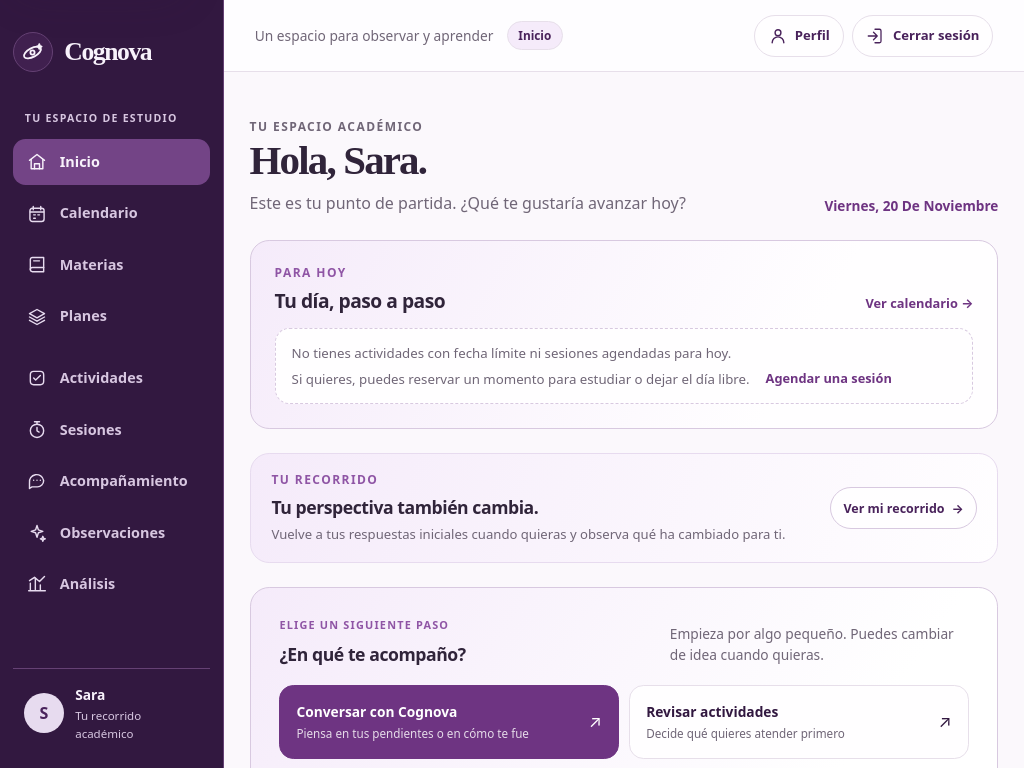
Scenario: authentication routes and forms › shows real profile data and keeps it visible on a refresh error
Expected: the heading "Hola, Sara." is shown, [250, 137, 426, 183]
Expected: the text "sara@example.com" is not shown
Click the link "Perfil" at point(799, 36), box [754, 14, 844, 56]
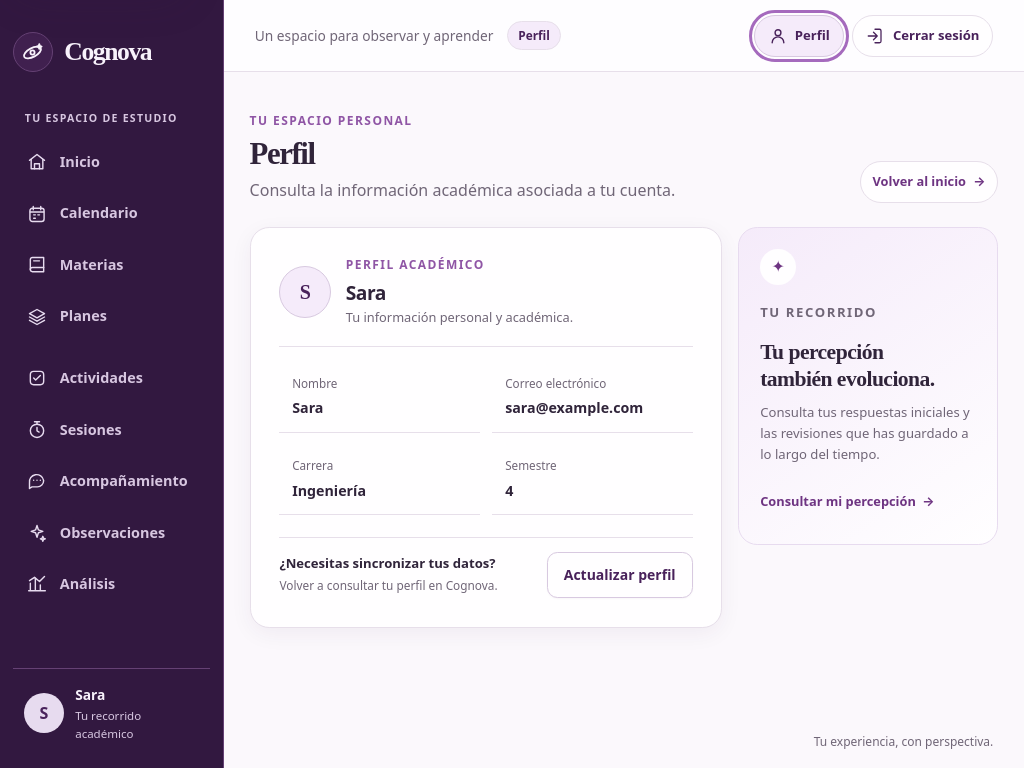
Expected: the heading "Perfil" is shown, [250, 137, 315, 171]
Expected: the text "sara@example.com" is shown, [505, 398, 643, 418]
Expected: the text "Ingeniería" is shown, [292, 481, 366, 500]
Click the button "Actualizar perfil" at point(620, 575), box [547, 552, 693, 598]
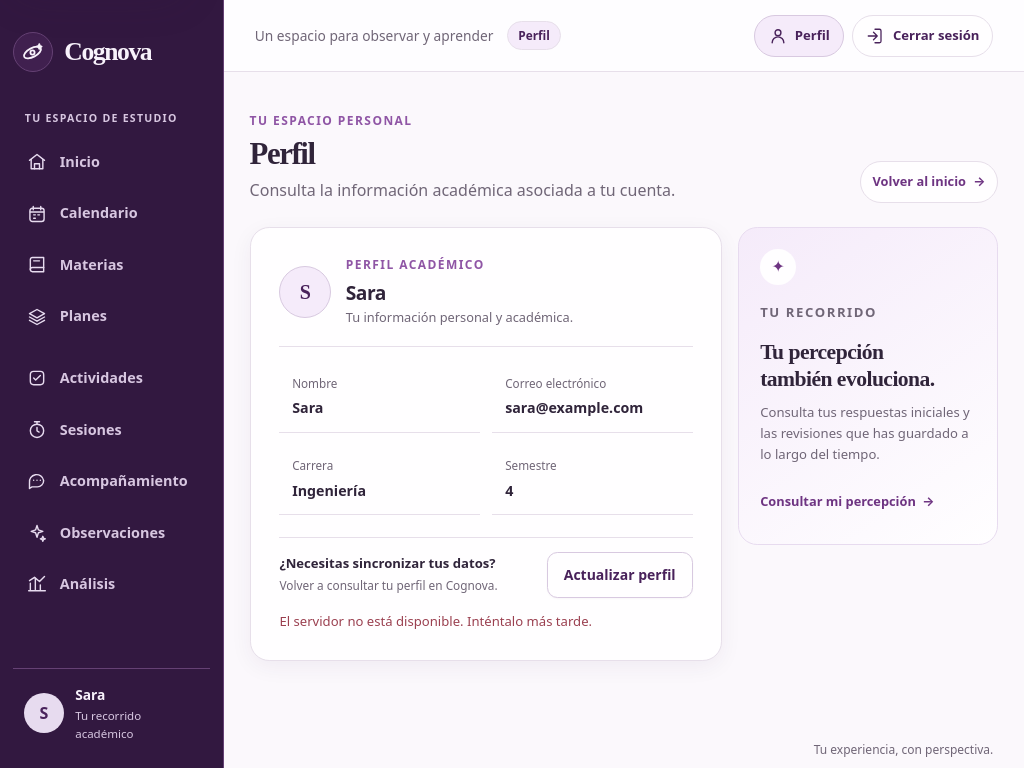
Expected: the text "sara@example.com" is shown, [505, 398, 643, 418]
Expected: the message shows "El servidor no está disponible", [279, 612, 592, 630]
Click the button "Actualizar perfil" at point(620, 575), box [547, 552, 693, 598]
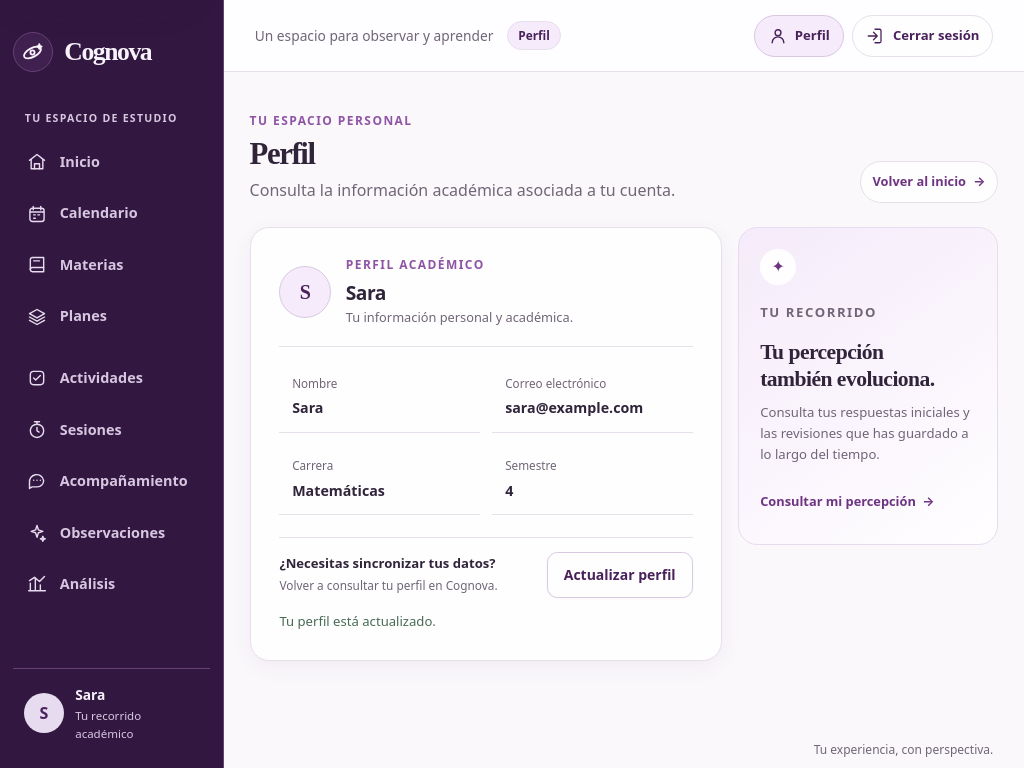
Expected: the text "Matemáticas" is shown, [292, 481, 385, 500]
Expected: the message reads "Tu perfil está actualizado.", [279, 612, 436, 630]
